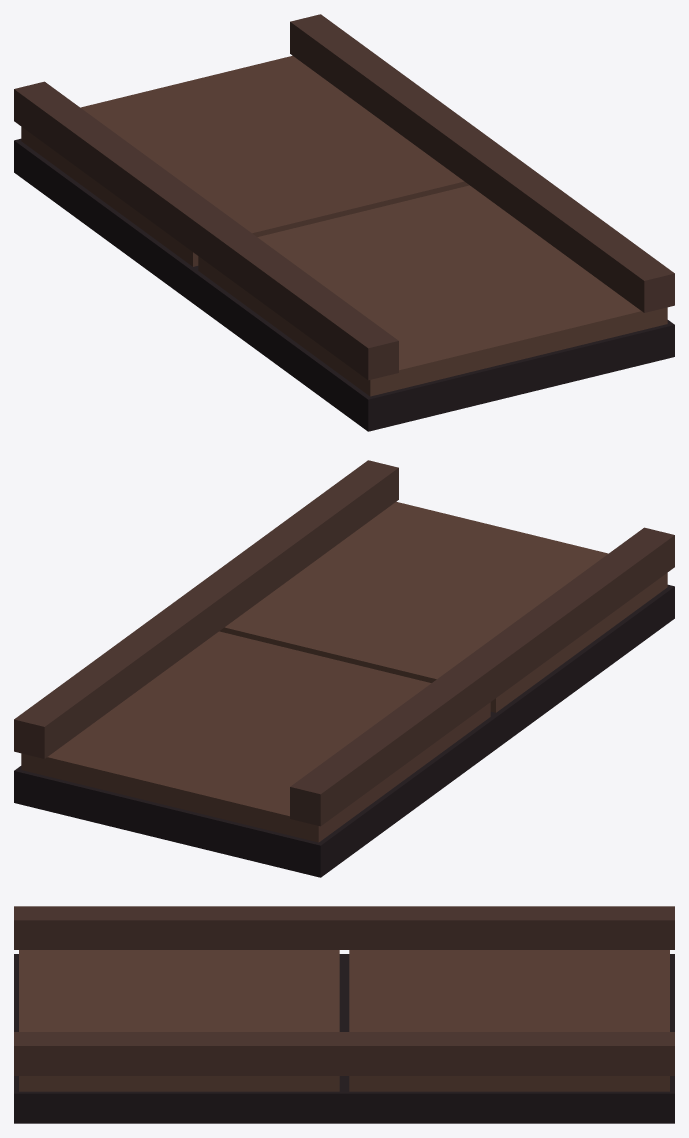
Rendered from corridor_floor_2m.glb.
3 renders of one model, top to bottom at view 1: azimuth 30°, elevation 25°; view 2: azimuth 150°, elevation 25°; view 3: azimuth 270°, elevation 25°, orthographic. The views are drawn at different scales.
Parts seen in each view (by area): view 1: corridor_floor_2m; view 2: corridor_floor_2m; view 3: corridor_floor_2m.
Part boxes in pixels (x1,y1,x2,y2): corridor_floor_2m: [14, 14, 674, 431]; corridor_floor_2m: [14, 460, 674, 877]; corridor_floor_2m: [14, 906, 674, 1123].
Bounding box in the file's own units: 2 × 0.52 × 4.
